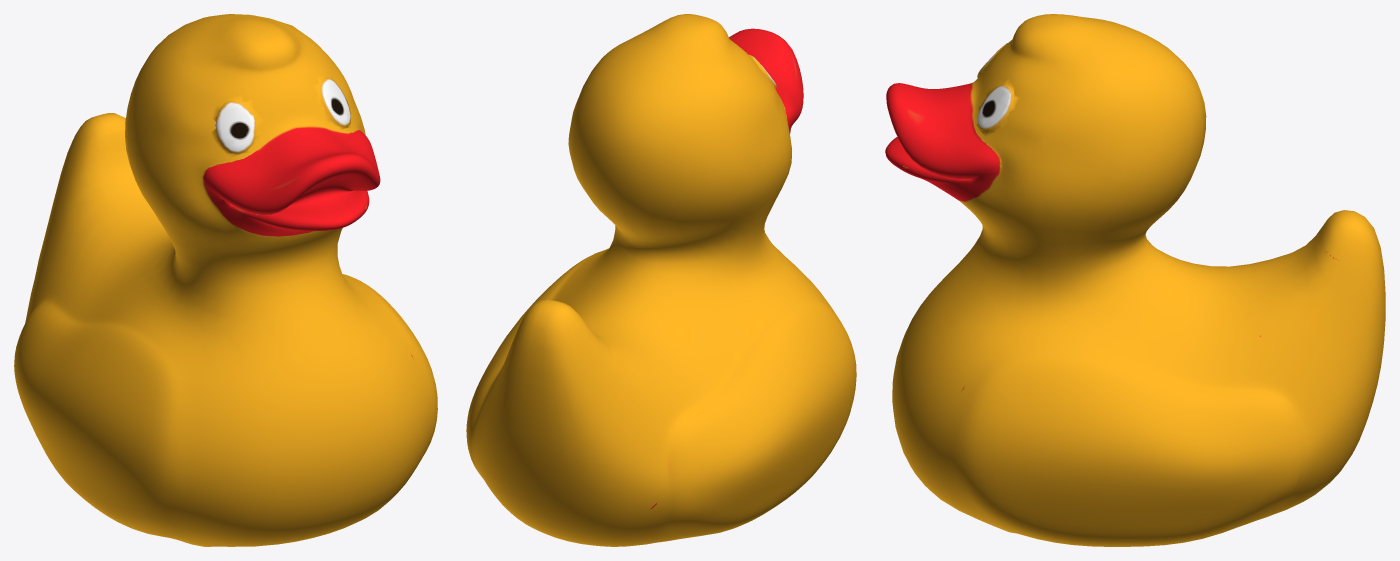
File: duck.dae
3 renders of one model, left to right at view 1: azimuth 30°, elevation 25°; view 2: azimuth 150°, elevation 25°; view 3: azimuth 270°, elevation 25°, orthographic. The views are drawn at different scales.
Parts seen in each view (by area): view 1: Rubber_Duck; view 2: Rubber_Duck; view 3: Rubber_Duck.
Part boxes in pixels (x1,y1,x2,y2): Rubber_Duck: [14, 14, 437, 546]; Rubber_Duck: [466, 14, 856, 546]; Rubber_Duck: [885, 14, 1385, 546].
Bounding box in the file's own units: 0.0371 × 0.0507 × 0.0533.
1 material, 1 textured.
